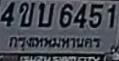1: (107, 4, 115, 28)
4: (0, 1, 15, 27), (73, 3, 86, 27)
5: (88, 3, 102, 27)
6: (59, 3, 72, 27)
A02: (18, 1, 35, 27)
A26: (37, 2, 54, 27)
BKK: (7, 33, 101, 51)
